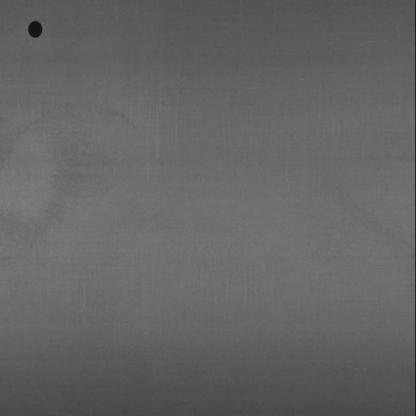punching_hole: (25, 18, 48, 39)
